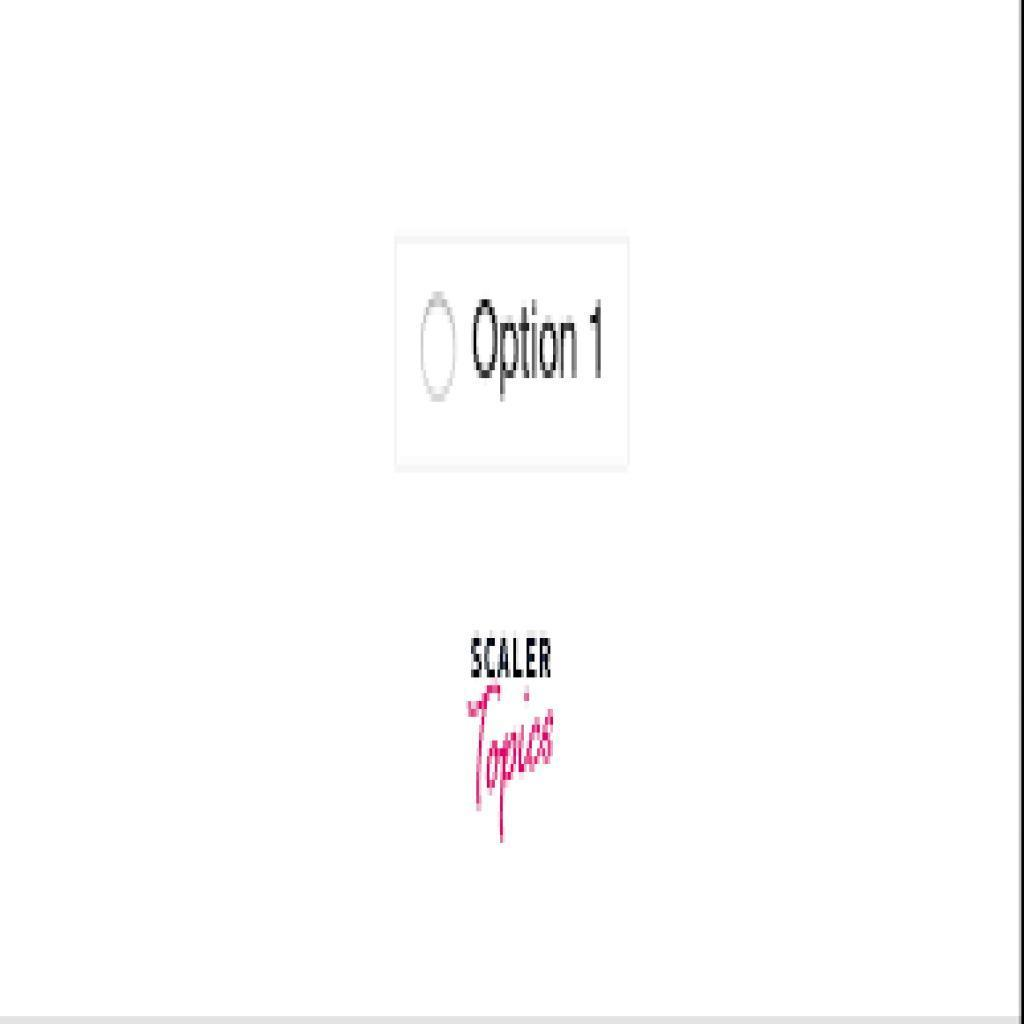label: (470, 291, 606, 408)
radio: (418, 289, 461, 409)
